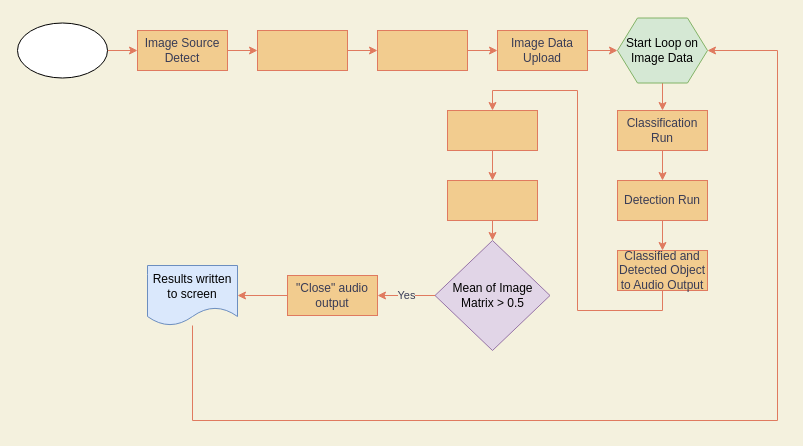
The diagram is 803 pixels wide and 446 high, and some of its shapes have lost their labels. Here are the shapes that lost their labels. From the top down, the box of each, then its label:
(16, 22, 108, 78): Start Program
(256, 30, 348, 70): Yolov5 Model Assign
(376, 30, 468, 70): Classification Assign
(446, 110, 538, 150): PyDNet Model Assign
(446, 180, 538, 220): Depth Estimation Run
